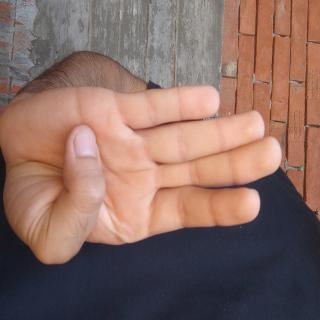KAAF: (55, 39, 204, 320)
